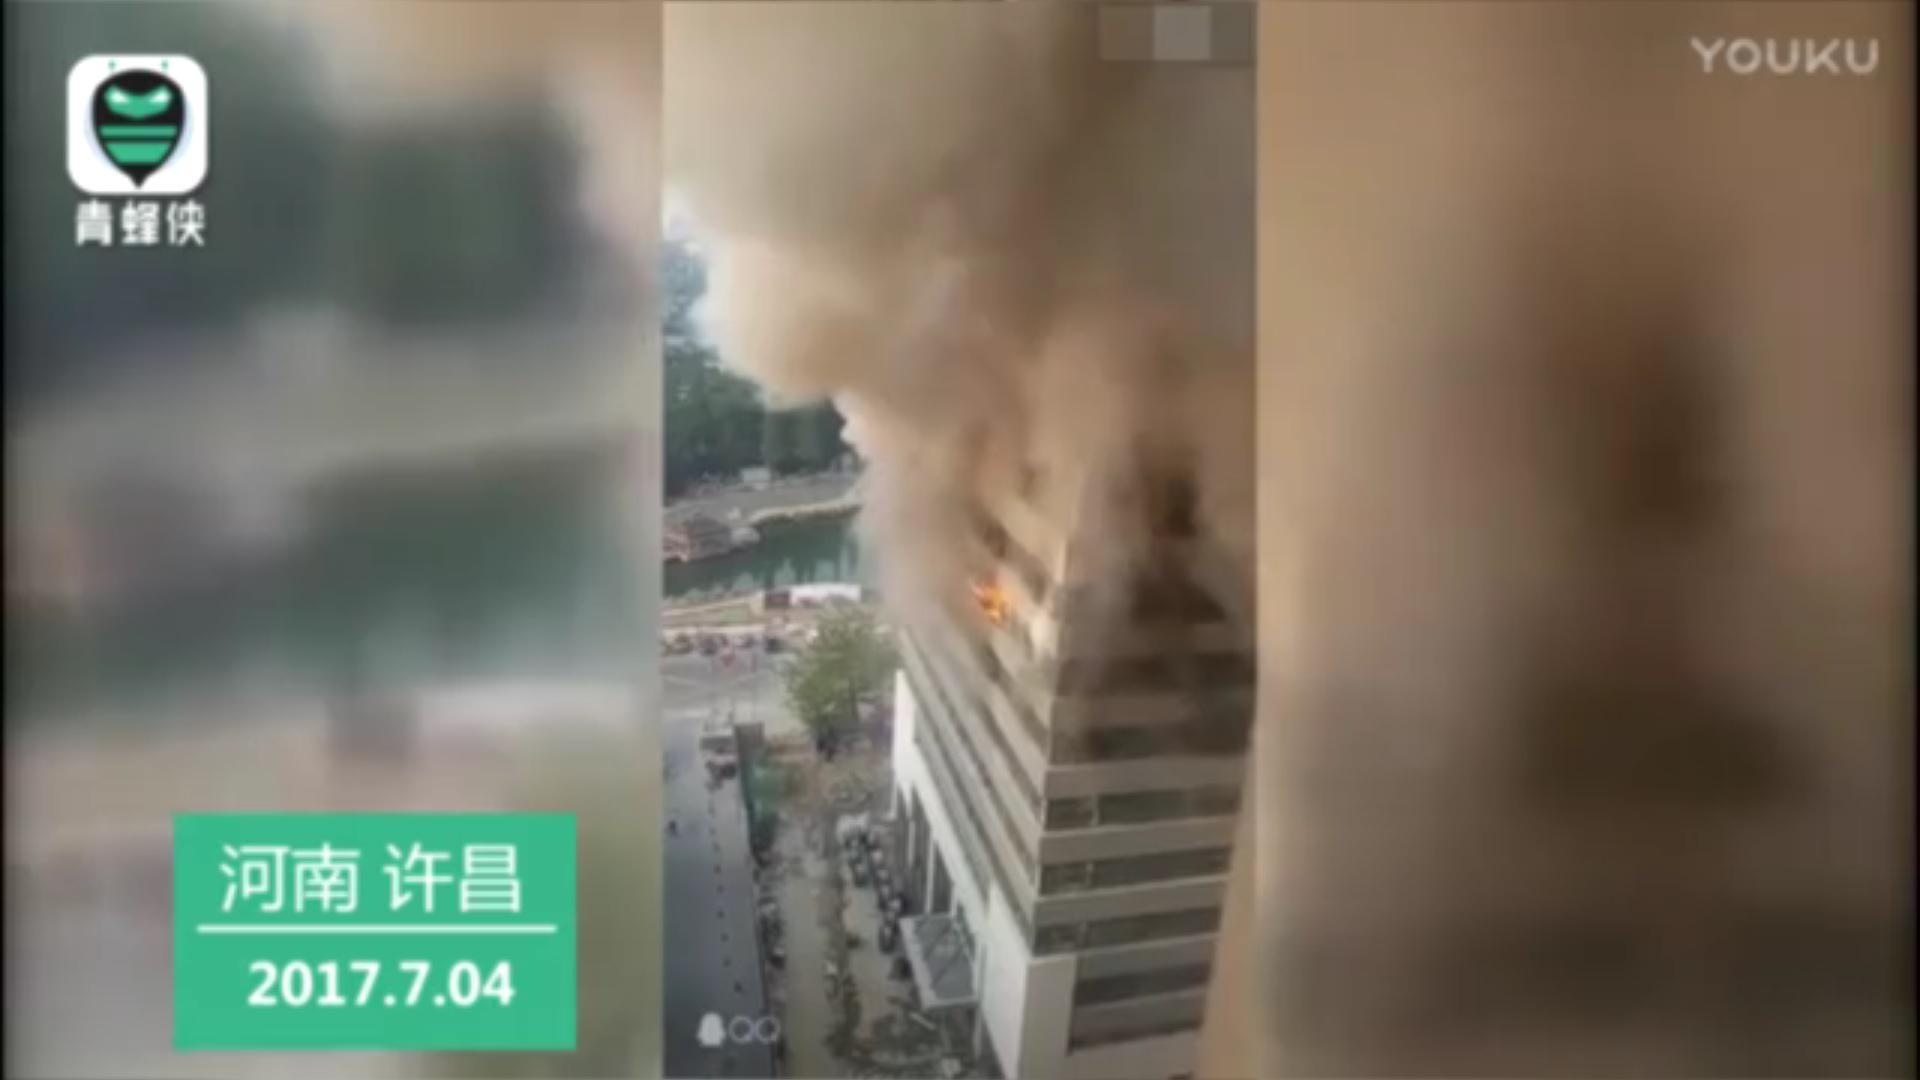fire: (971, 574, 1011, 621)
